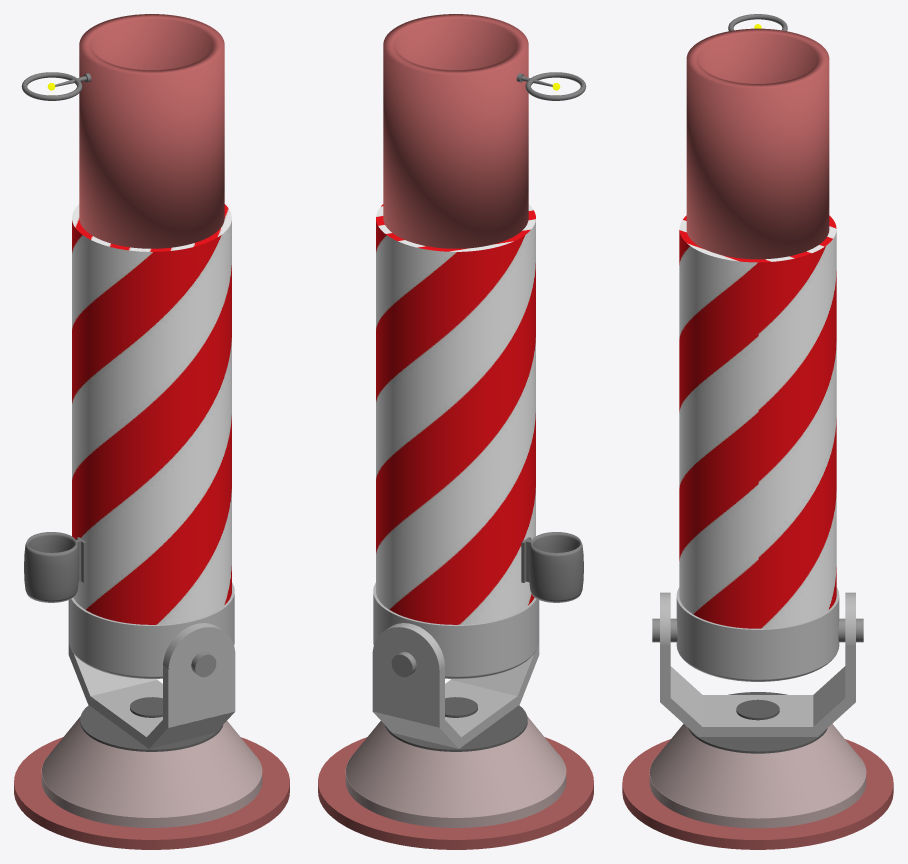
File: pongCannon.gltf
3 renders of one model, left to right at view 1: azimuth 30°, elevation 25°; view 2: azimuth 150°, elevation 25°; view 3: azimuth 270°, elevation 25°, orthographic.
Parts seen in each view (by area): view 1: outerBarrel, innerBarrel, baseCone, basePlate, breech, bracketSide1bottom, rearPeep, baseCone_1, bracketBottom, bracketSide1Top_1, baseBushing, bracketSide1bottomAngle_1 (+3 smaller); view 2: outerBarrel, innerBarrel, baseCone, basePlate, breech, rearPeep, bracketSide1Top, bracketSide1bottom_1, baseCone_1, bracketBottom, baseBushing, bracketSide1bottomAngle (+3 smaller); view 3: outerBarrel, innerBarrel, baseCone, basePlate, breech, bracketBottom, baseCone_1, baseBushing, bracketSide1bottomAngle_1, bracketSide1bottomAngle, axle, basePivot (+4 smaller).
Part boxes in pixels (box(x1,y1,x2,y2)): outerBarrel: box(72, 204, 231, 624); innerBarrel: box(79, 14, 224, 248); baseCone: box(42, 716, 261, 817); basePlate: box(14, 737, 289, 849); breech: box(69, 582, 234, 676); bracketSide1bottom: box(163, 654, 235, 727); rearPeep: box(24, 532, 79, 602); baseCone_1: box(41, 754, 262, 827); bracketBottom: box(88, 680, 162, 748); bracketSide1Top_1: box(163, 623, 235, 670); baseBushing: box(80, 705, 222, 751); bracketSide1bottomAngle_1: box(145, 711, 234, 748); outerBarrel: box(376, 204, 535, 624); innerBarrel: box(383, 14, 528, 248); baseCone: box(346, 716, 565, 817); basePlate: box(318, 737, 593, 849); breech: box(373, 582, 538, 676); rearPeep: box(528, 532, 583, 602); bracketSide1Top: box(372, 623, 444, 698); bracketSide1bottom_1: box(372, 654, 444, 727); baseCone_1: box(345, 754, 566, 827); bracketBottom: box(445, 680, 519, 748); baseBushing: box(385, 705, 527, 751); bracketSide1bottomAngle: box(373, 711, 462, 748); outerBarrel: box(679, 215, 836, 628); innerBarrel: box(686, 28, 829, 259); baseCone: box(649, 724, 866, 818); basePlate: box(622, 739, 893, 849); breech: box(676, 587, 839, 679); bracketBottom: box(698, 695, 817, 736); baseCone_1: box(649, 755, 866, 828); baseBushing: box(688, 692, 827, 753); bracketSide1bottomAngle_1: box(660, 666, 702, 736); bracketSide1bottomAngle: box(813, 666, 855, 736); axle: box(652, 618, 863, 642); basePivot: box(736, 699, 779, 720).
Bounding box in the file's own units: 5.14 × 14.93 × 5.
18 materials, 1 textured.
